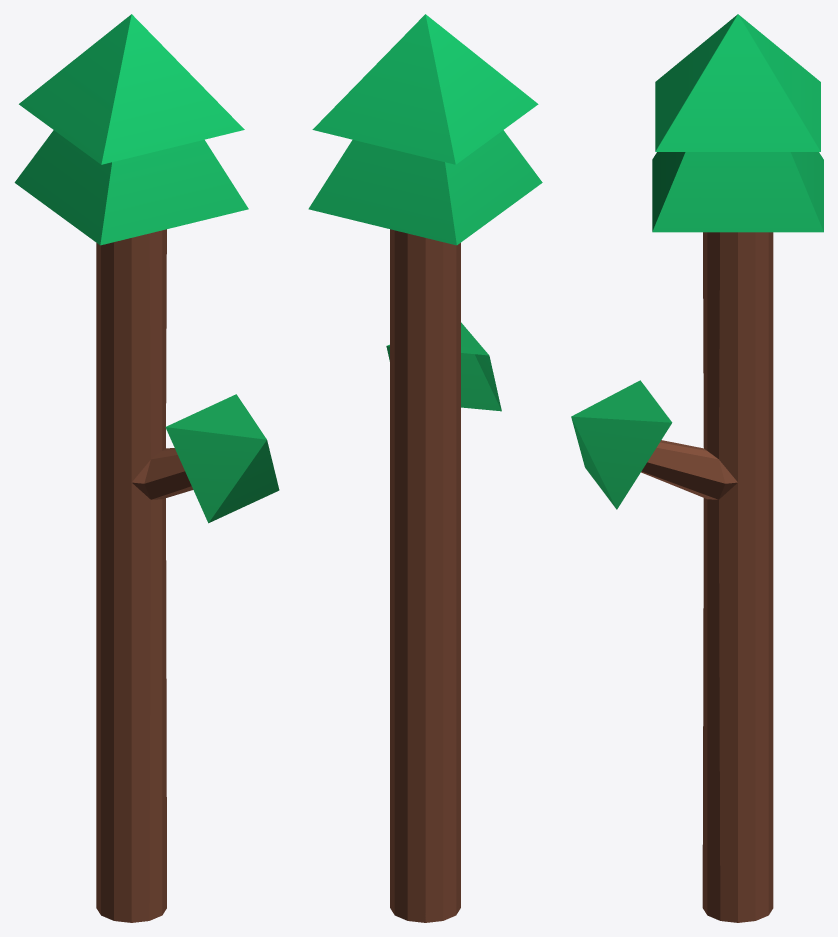
The model's file is Tree_25_gradient_green_vc.fbx.
3 views of the same model, side by side, from view 1: azimuth 30°, elevation 25°; view 2: azimuth 150°, elevation 25°; view 3: azimuth 270°, elevation 25° (orthographic).
Visible parts, largest first — view 1: Tree_25_gradient_green_vc; view 2: Tree_25_gradient_green_vc; view 3: Tree_25_gradient_green_vc.
Part boxes in pixels (box(x1,y1,x2,y2)): Tree_25_gradient_green_vc: box(14, 14, 279, 922); Tree_25_gradient_green_vc: box(308, 14, 542, 922); Tree_25_gradient_green_vc: box(571, 14, 823, 922).
Bounding box in the file's own units: 58.32 × 308 × 79.03.
